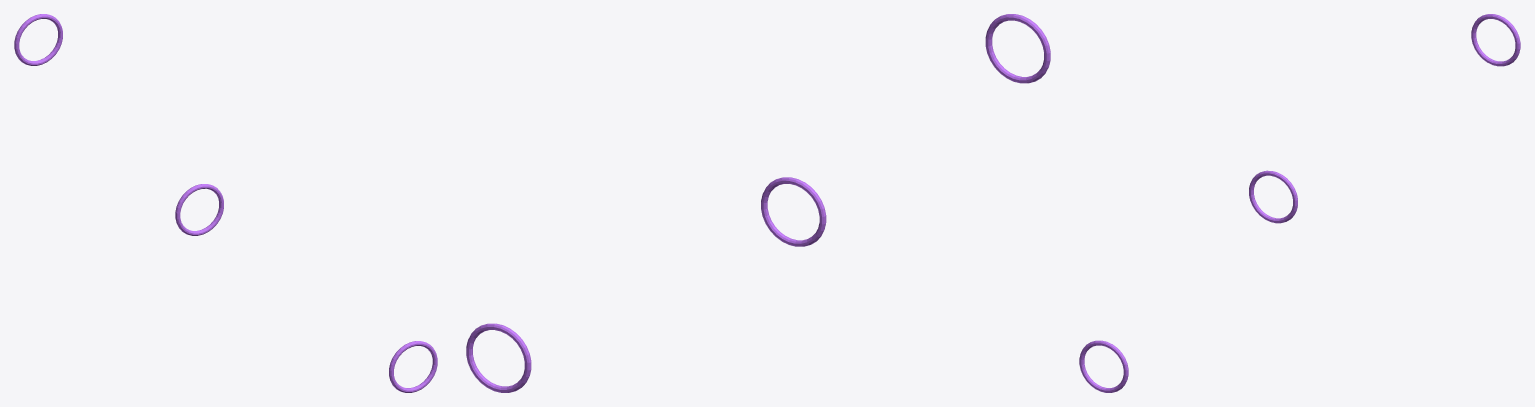
Rendered from cielo-alto_Aros.glb.
The picture shows the model from 3 angles, left to right: view 1: azimuth 30°, elevation 25°; view 2: azimuth 150°, elevation 25°; view 3: azimuth 330°, elevation 25°; orthographic projection. The views are drawn at different scales.
Parts seen in each view (by area): view 1: Mapa_cielo_alto_Aros; view 2: Mapa_cielo_alto_Aros; view 3: Mapa_cielo_alto_Aros.
Part boxes in pixels (<box>): Mapa_cielo_alto_Aros: <box>14,14,437,392</box>; Mapa_cielo_alto_Aros: <box>466,14,1050,392</box>; Mapa_cielo_alto_Aros: <box>1079,14,1520,392</box>.
Size of the model in its own units: 21.21 by 25.12 by 181.
Materials: 1 (1 with a texture image).
